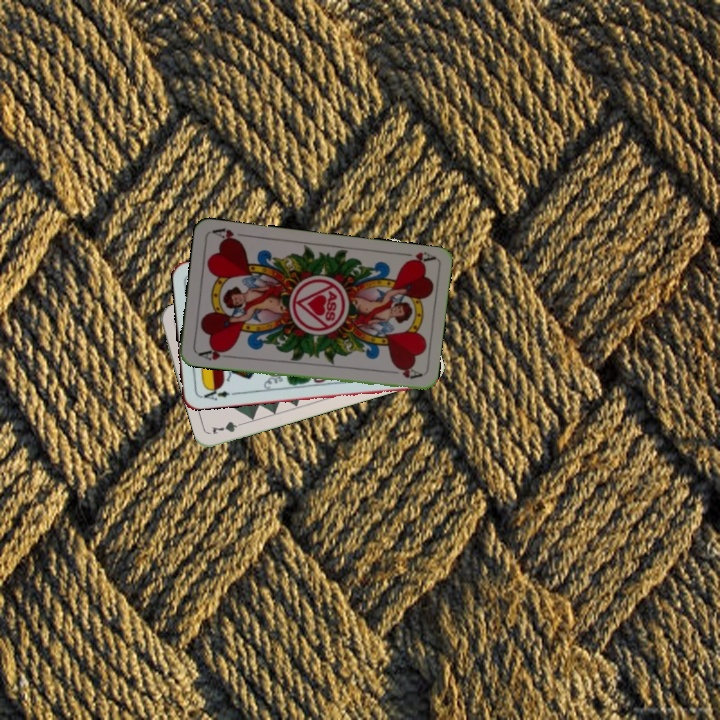EA: (197, 383, 232, 403)
G7: (208, 417, 248, 436)
HA: (396, 248, 437, 268), (194, 344, 234, 363)
